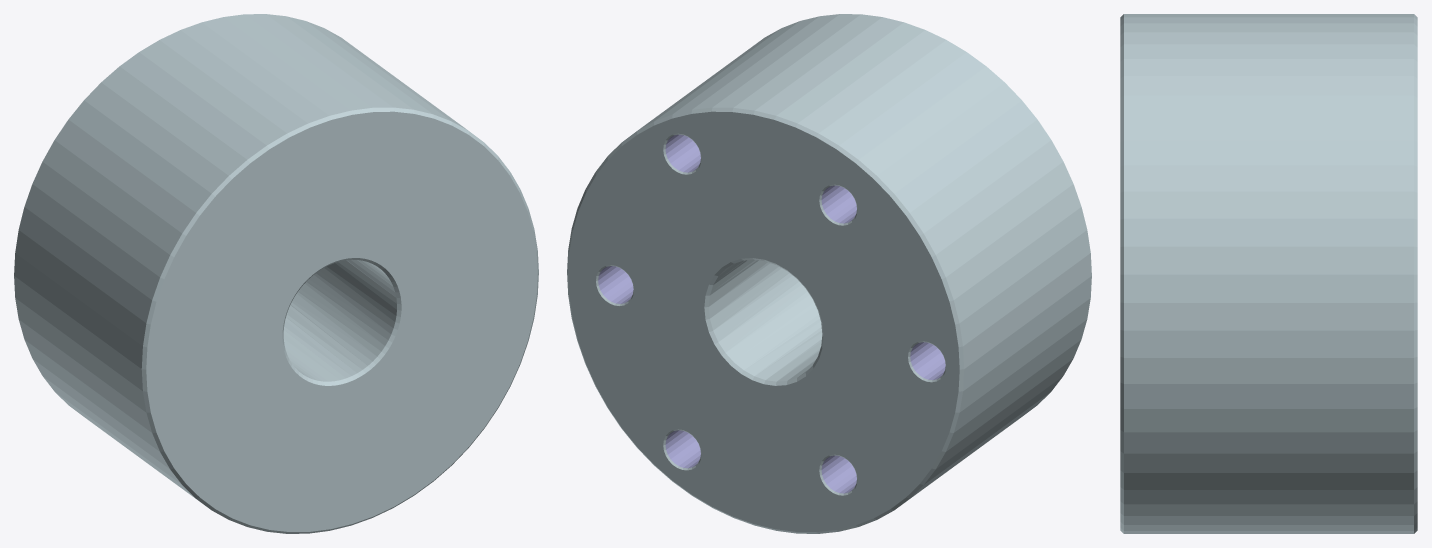
File: c_8mm__1.3dxml.glb
3 renders of one model, left to right at view 1: azimuth 30°, elevation 25°; view 2: azimuth 150°, elevation 25°; view 3: azimuth 270°, elevation 25°, orthographic. The views are drawn at different scales.
Visible parts, largest first — view 1: 轴直径8mm_抱紧式联轴器(客户图）; view 2: 轴直径8mm_抱紧式联轴器(客户图）; view 3: 轴直径8mm_抱紧式联轴器(客户图）.
Part boxes in pixels (x1,y1,x2,y2): 轴直径8mm_抱紧式联轴器(客户图）: [14, 14, 538, 533]; 轴直径8mm_抱紧式联轴器(客户图）: [567, 14, 1091, 533]; 轴直径8mm_抱紧式联轴器(客户图）: [1120, 14, 1417, 533].
Size of the model in its own units: 0.028 by 0.028 by 0.016.
